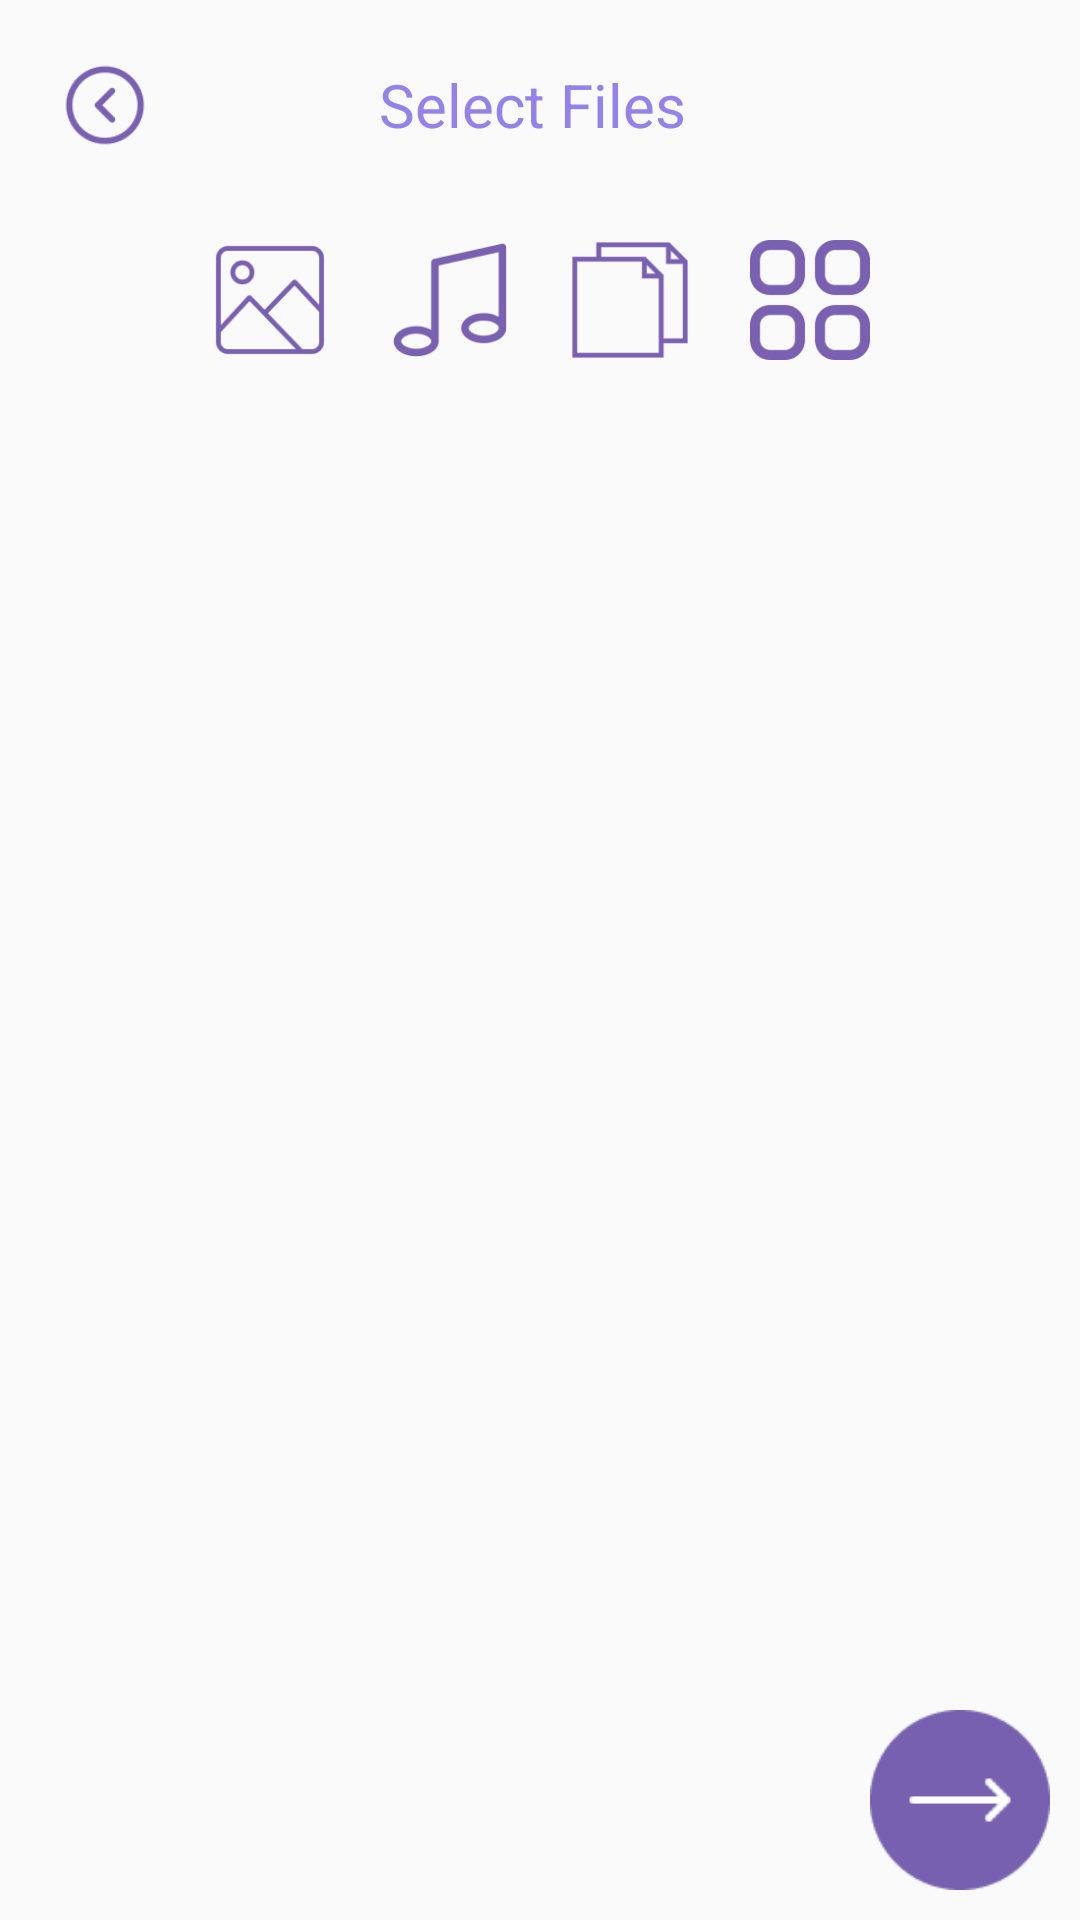

Screen size 1080w x 1920h. Icon name, then its box in pixels as bbox(x1, y1, x2, y2):
apps: bbox(750, 240, 870, 360)
docs: bbox(572, 242, 688, 358)
go back: bbox(65, 66, 145, 145)
music: bbox(393, 243, 507, 357)
next arrow: bbox(870, 1710, 1050, 1890)
